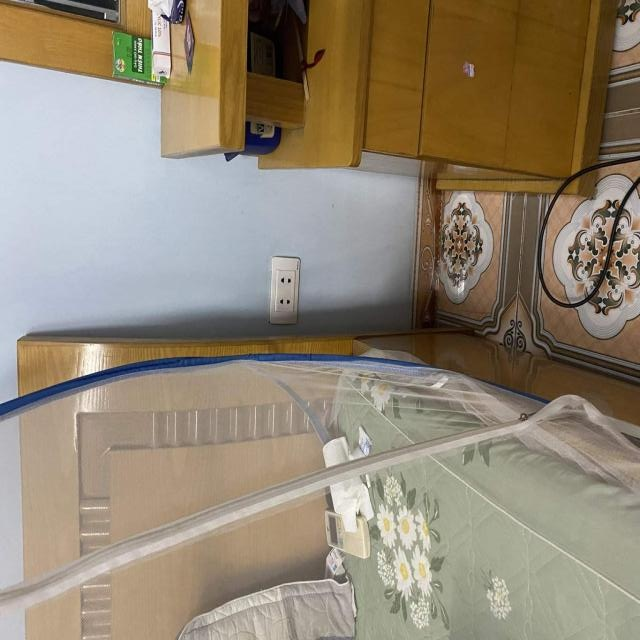outlet: (269, 256, 300, 325)
